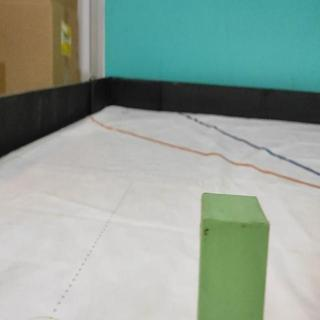greenbox: (197, 189, 271, 320)
